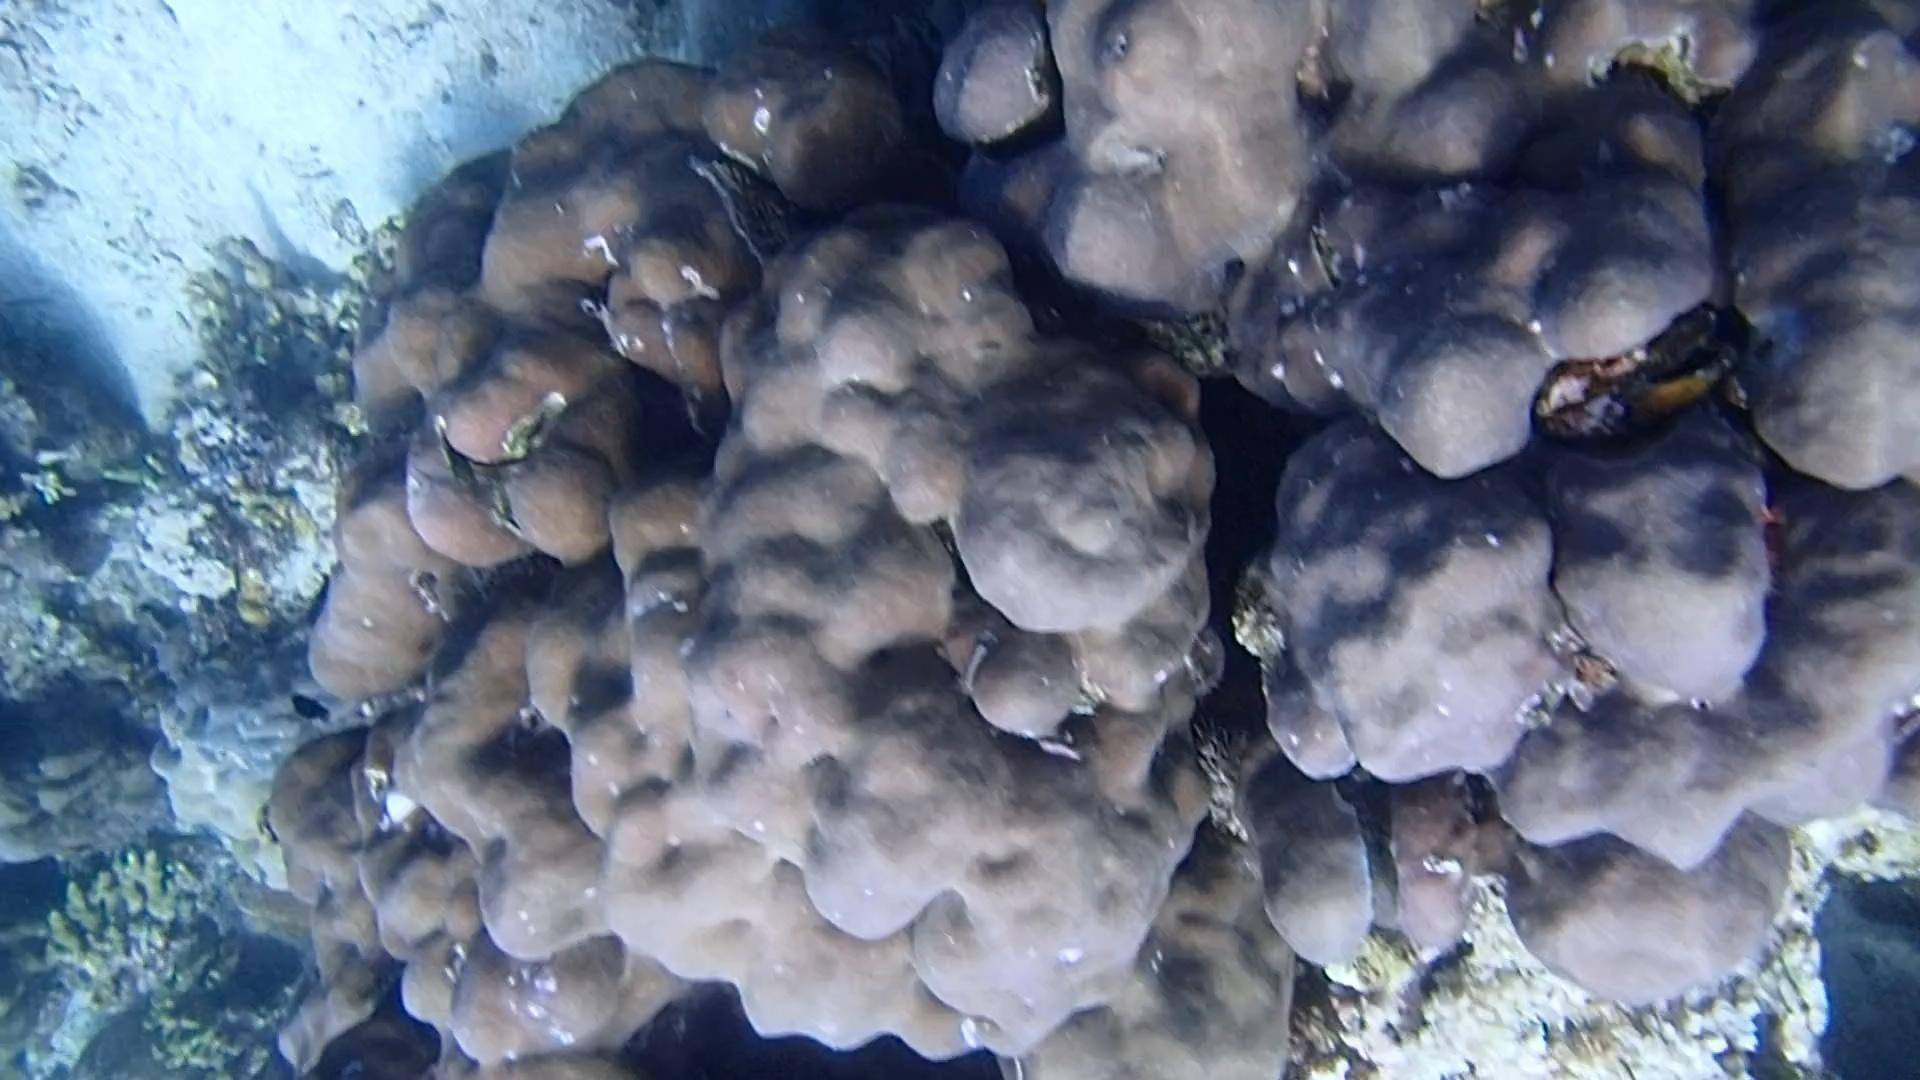Dark Fish: (282, 684, 331, 736)
